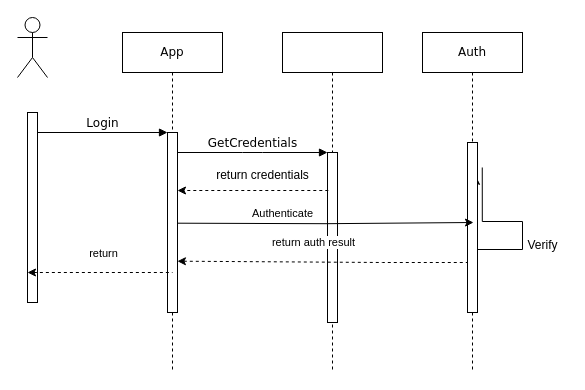
Some shapes in this 585 by 390 pixel diagram are drawn without their labels. Here are the shapes that lost their labels. From the top down, the centre of each, then its label:
At point 32,47: "User".
At point 332,202: "Db".
